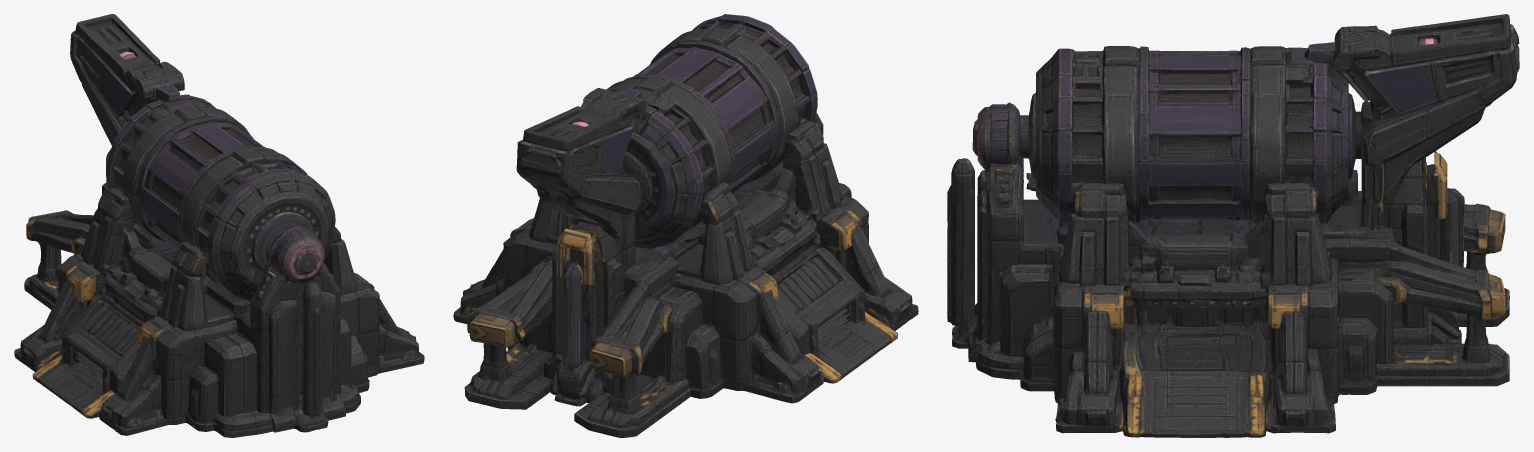
File: ore-sorter.glb
3 renders of one model, left to right at view 1: azimuth 30°, elevation 25°; view 2: azimuth 150°, elevation 25°; view 3: azimuth 270°, elevation 25°, orthographic. The views are drawn at different scales.
Parts seen in each view (by area): view 1: output; view 2: output; view 3: output.
Part boxes in pixels (<box>): output: <box>14,14,424,437</box>; output: <box>453,14,918,437</box>; output: <box>947,14,1519,437</box>.
Size of the model in its own units: 1.62 by 1.21 by 2.
1 material, 1 textured.
